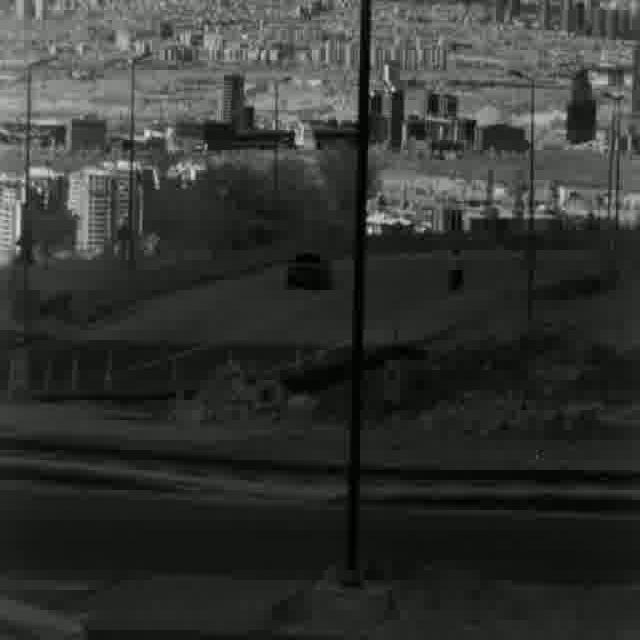Car: (286, 246, 334, 293)
Motorcycle: (449, 244, 464, 301)
